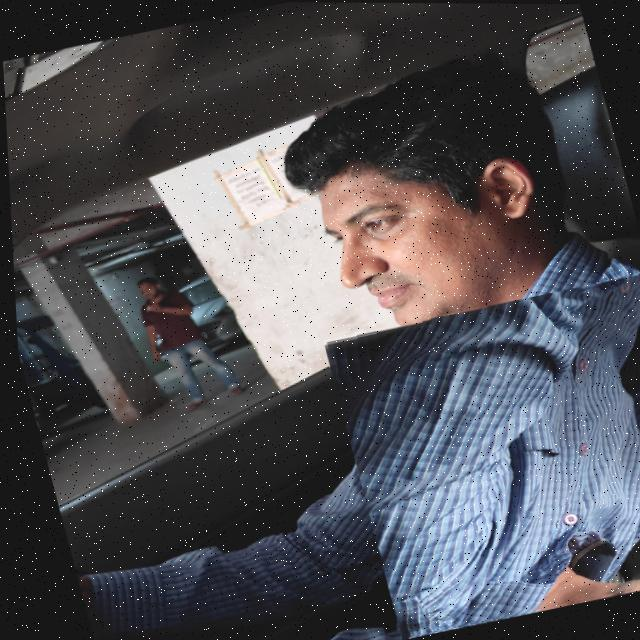no-seatbelt: (316, 269, 640, 640)
